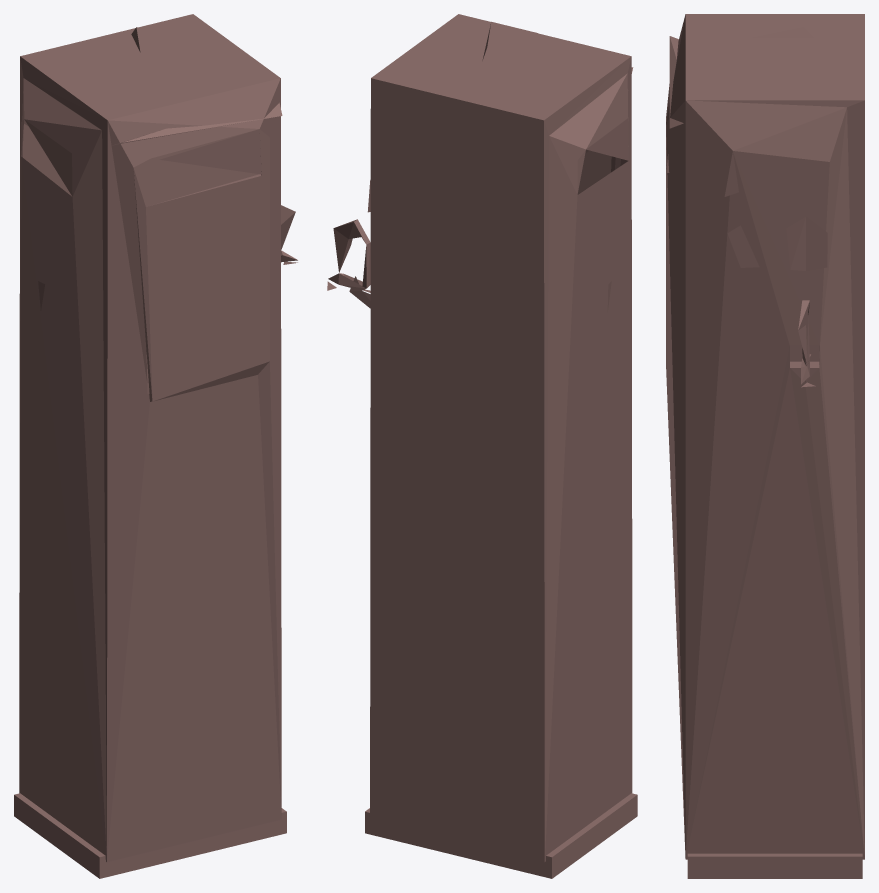
Rendered from gas-pump.lod1.glb.
The picture shows the model from 3 angles, left to right: view 1: azimuth 30°, elevation 25°; view 2: azimuth 150°, elevation 25°; view 3: azimuth 270°, elevation 25°; orthographic projection. The views are drawn at different scales.
Visible parts, largest first — view 1: Vintage_Gas_Dispenser_GasDispenser_Main_0; view 2: Vintage_Gas_Dispenser_GasDispenser_Main_0; view 3: Vintage_Gas_Dispenser_GasDispenser_Main_0.
Boxes of the visible parts, x1,y1,x2,y2 form: Vintage_Gas_Dispenser_GasDispenser_Main_0: (14, 14, 297, 878); Vintage_Gas_Dispenser_GasDispenser_Main_0: (327, 14, 637, 878); Vintage_Gas_Dispenser_GasDispenser_Main_0: (666, 14, 864, 878).
Size of the model in its own units: 0.5599 by 1.56 by 0.348.
